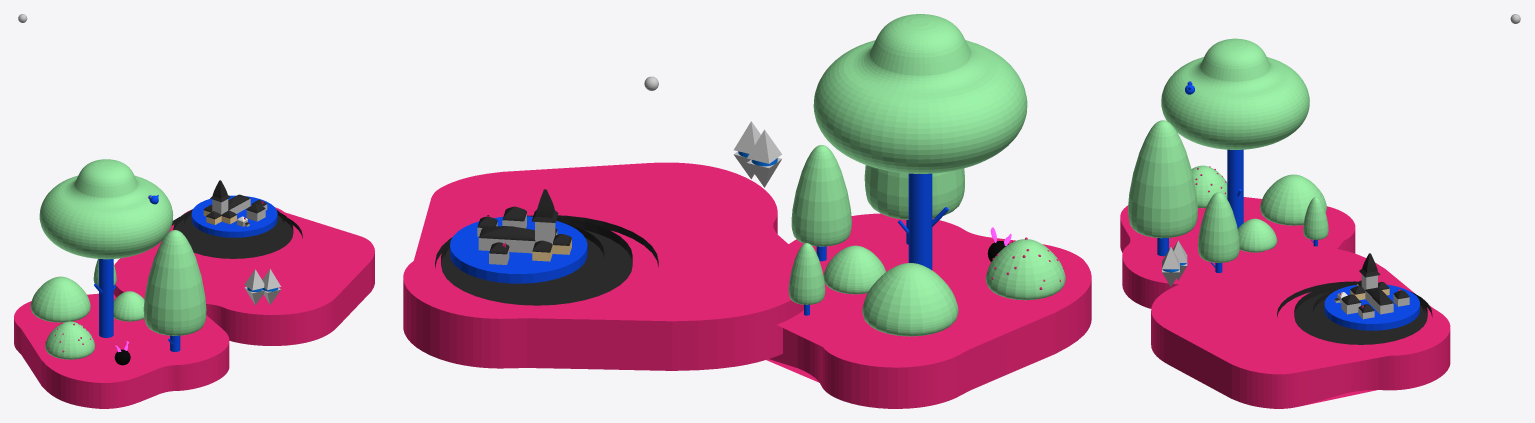
Rendered from extraordinaire1.fbx.
The picture shows the model from 3 angles, left to right: view 1: azimuth 30°, elevation 25°; view 2: azimuth 150°, elevation 25°; view 3: azimuth 270°, elevation 25°; orthographic projection. The views are drawn at different scales.
Parts seen in each view (by area): view 1: Couvercle_2, Lathe_7, Couvercle_2_2, Sol1, Sol2, Lathe_4, Lathe_5, Disque_1_3, Disque_1, Lathe_3, Tronc_14, Disque_1_2 (+1 smaller); view 2: Couvercle_2, Lathe_7, Sol2, Couvercle_2_2, Sol1, Lathe_5, Lathe_2, Disque_1, Disque_1_3, Lathe_3, Lathe_4, Disque_1_2 (+6 smaller); view 3: Couvercle_2, Lathe_7, Sol2, Lathe_4, Couvercle_2_2, Lathe_2, Lathe_5, Disque_1, Disque_1_3, Sol1, Disque_1_2, Tronc_14 (+4 smaller).
Part boxes in pixels (bbox=[...]): Couvercle_2: bbox=[114, 207, 374, 314]; Lathe_7: bbox=[39, 159, 173, 259]; Couvercle_2_2: bbox=[14, 293, 229, 382]; Sol1: bbox=[14, 318, 229, 408]; Sol2: bbox=[113, 253, 374, 345]; Lathe_4: bbox=[143, 230, 206, 335]; Lathe_5: bbox=[30, 276, 90, 322]; Disque_1_3: bbox=[173, 211, 293, 258]; Disque_1: bbox=[191, 195, 277, 237]; Lathe_3: bbox=[45, 321, 94, 359]; Tronc_14: bbox=[99, 259, 113, 337]; Disque_1_2: bbox=[184, 209, 284, 246]; Couvercle_2: bbox=[403, 162, 797, 321]; Lathe_7: bbox=[813, 14, 1027, 173]; Sol2: bbox=[403, 213, 803, 370]; Couvercle_2_2: bbox=[777, 213, 1091, 367]; Sol1: bbox=[769, 279, 1091, 408]; Lathe_5: bbox=[862, 263, 958, 336]; Lathe_2: bbox=[791, 145, 851, 246]; Disque_1: bbox=[450, 216, 587, 283]; Disque_1_3: bbox=[441, 216, 632, 305]; Lathe_3: bbox=[985, 239, 1065, 300]; Lathe_4: bbox=[864, 165, 964, 219]; Disque_1_2: bbox=[444, 223, 604, 293]; Couvercle_2: bbox=[1151, 245, 1450, 374]; Lathe_7: bbox=[1161, 38, 1309, 149]; Sol2: bbox=[1151, 311, 1450, 408]; Lathe_4: bbox=[1128, 120, 1197, 238]; Couvercle_2_2: bbox=[1120, 197, 1355, 284]; Lathe_2: bbox=[1198, 192, 1239, 262]; Lathe_5: bbox=[1260, 174, 1326, 225]; Disque_1: bbox=[1324, 284, 1419, 330]; Disque_1_3: bbox=[1294, 282, 1427, 344]; Sol1: bbox=[1120, 219, 1355, 308]; Disque_1_2: bbox=[1313, 288, 1424, 337]; Tronc_14: bbox=[1227, 149, 1243, 228].
Size of the model in its own units: 134 by 87.06 by 116.
